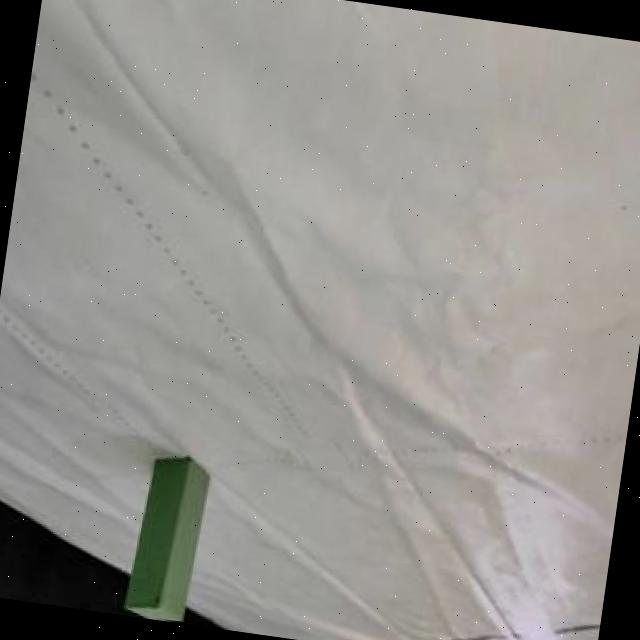greenbox: (123, 451, 214, 625)
